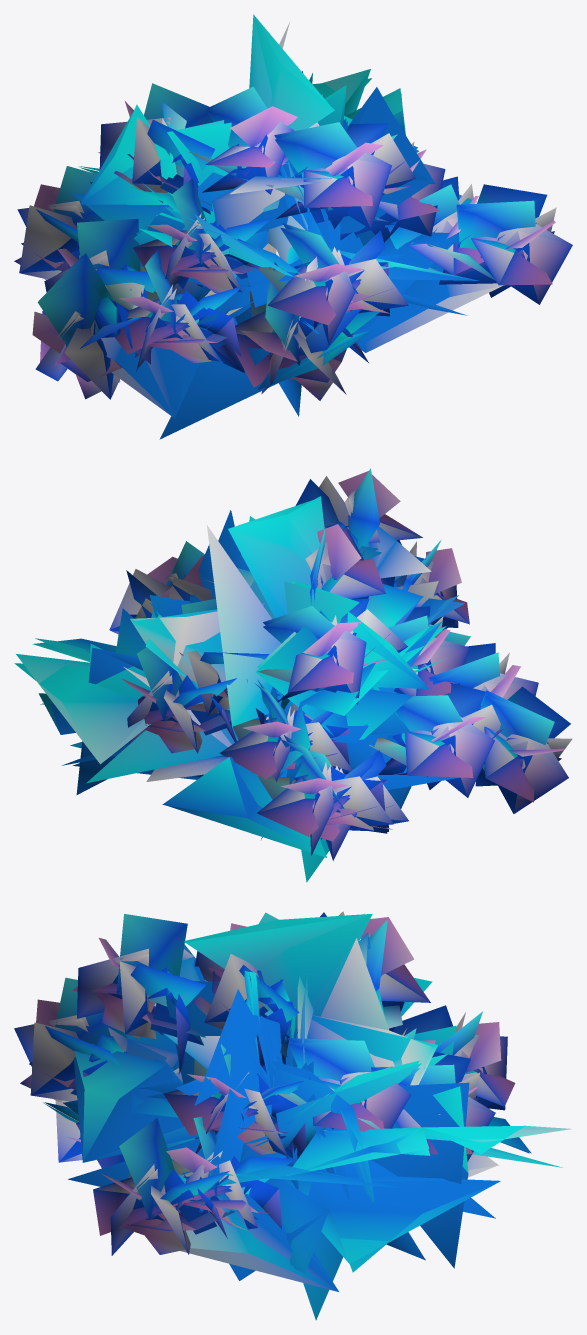
Rendered from shrub_a.dae.
The picture shows the model from 3 angles, top to bottom: view 1: azimuth 30°, elevation 25°; view 2: azimuth 150°, elevation 25°; view 3: azimuth 270°, elevation 25°; orthographic projection. The views are drawn at different scales.
Visible parts, largest first — view 1: shrub_a_a450, shrub_a_a150; view 2: shrub_a_a450, shrub_a_a150; view 3: shrub_a_a450, shrub_a_a150.
Boxes of the visible parts, box(x1,y1,x2,y2) form: shrub_a_a450: box(14, 15, 572, 439); shrub_a_a150: box(17, 14, 572, 417); shrub_a_a450: box(14, 468, 570, 882); shrub_a_a150: box(16, 469, 572, 875); shrub_a_a450: box(15, 911, 570, 1320); shrub_a_a150: box(14, 913, 571, 1305).
Size of the model in its own units: 8.24 by 7.58 by 5.64.
